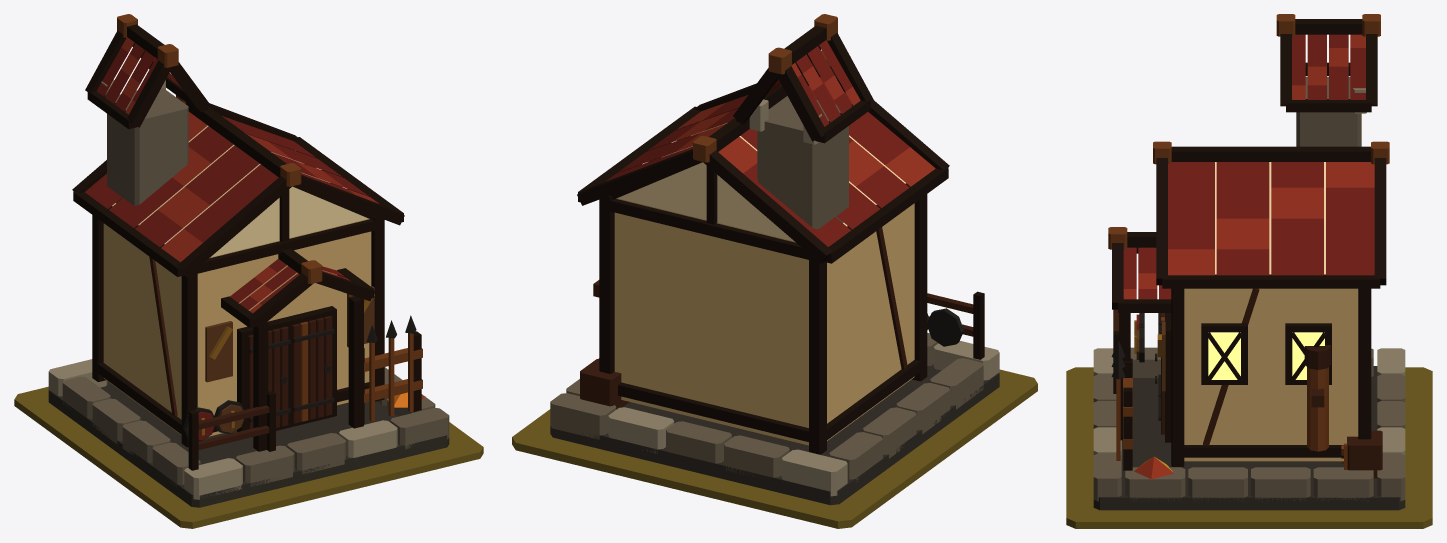
Rendered from barracks_t5.glb.
The picture shows the model from 3 angles, left to right: view 1: azimuth 30°, elevation 25°; view 2: azimuth 150°, elevation 25°; view 3: azimuth 270°, elevation 25°; orthographic projection. The views are drawn at different scales.
Parts seen in each view (by area): view 1: MMR | barracks | T05 Architecture.001, MMR | barracks | Tier 05 Ground.001, MMR | barracks | T05 Banner Flag 1.001; view 2: MMR | barracks | T05 Architecture.001, MMR | barracks | Tier 05 Ground.001; view 3: MMR | barracks | T05 Architecture.001, MMR | barracks | Tier 05 Ground.001, MMR | barracks | T05 Autumn Dressing.001.
Boxes of the visible parts, x1,y1,x2,y2 form: MMR | barracks | T05 Architecture.001: [48, 14, 449, 507]; MMR | barracks | Tier 05 Ground.001: [14, 386, 483, 528]; MMR | barracks | T05 Banner Flag 1.001: [205, 321, 232, 382]; MMR | barracks | T05 Architecture.001: [550, 14, 999, 505]; MMR | barracks | Tier 05 Ground.001: [512, 369, 1037, 528]; MMR | barracks | T05 Architecture.001: [1093, 14, 1405, 510]; MMR | barracks | Tier 05 Ground.001: [1066, 367, 1432, 528]; MMR | barracks | T05 Autumn Dressing.001: [1134, 456, 1174, 480].
Size of the model in its own units: 2.35 by 2.85 by 2.35.
Materials: 2 (1 with a texture image).
